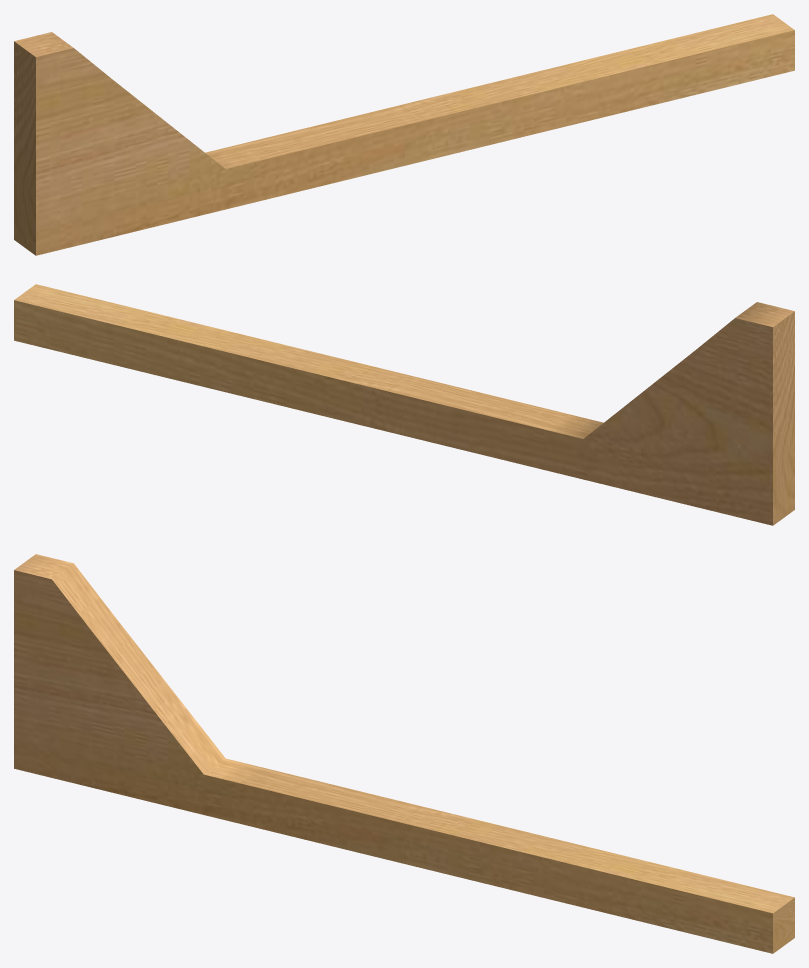
The picture shows the model from 3 angles, top to bottom: view 1: azimuth 30°, elevation 25°; view 2: azimuth 150°, elevation 25°; view 3: azimuth 330°, elevation 25°; orthographic projection.
Visible parts, largest first — view 1: pCube1; view 2: pCube1; view 3: pCube1.
Part boxes in pixels (x1,y1,x2,y2): pCube1: (14, 14, 794, 255); pCube1: (14, 284, 794, 525); pCube1: (14, 554, 794, 953).
Bounding box in the file's own units: 20 × 5 × 1.
1 material, 1 textured.
